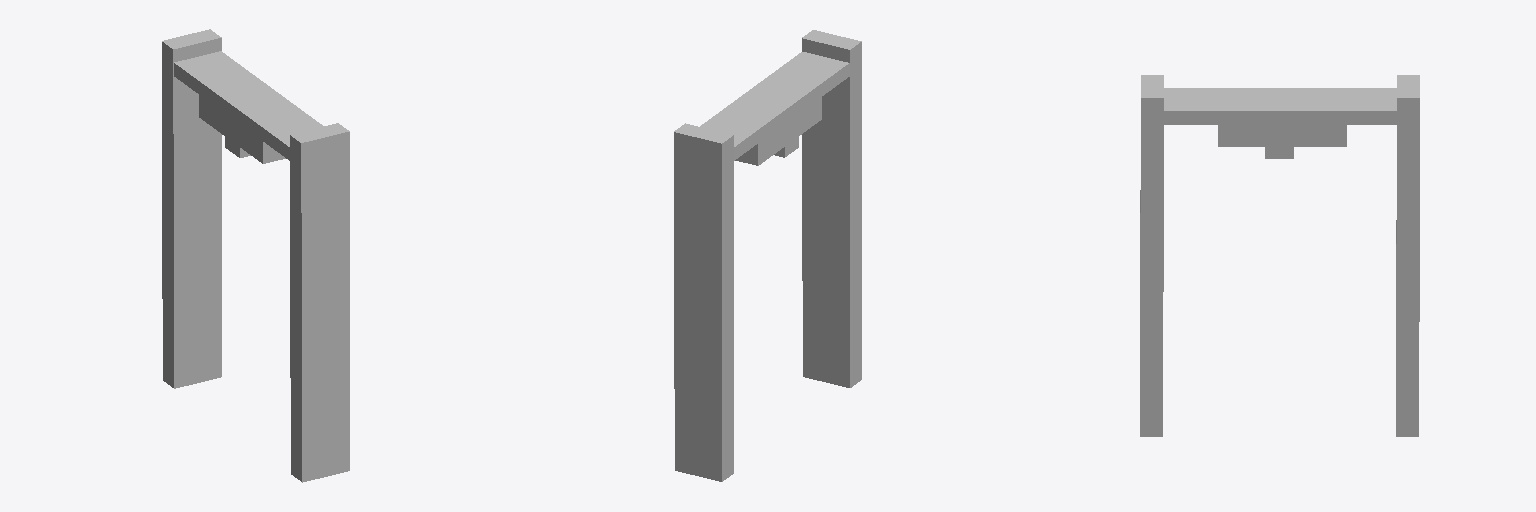
Rendered from storageCrane.obj.
3 views of the same model, side by side, from view 1: azimuth 30°, elevation 25°; view 2: azimuth 150°, elevation 25°; view 3: azimuth 270°, elevation 25° (orthographic).
Parts seen in each view (by area): view 1: Crane_Cube.003; view 2: Crane_Cube.003; view 3: Crane_Cube.003.
Boxes of the visible parts, box(x1,y1,x2,y2) form: Crane_Cube.003: box(162, 29, 349, 482); Crane_Cube.003: box(674, 30, 861, 481); Crane_Cube.003: box(1140, 75, 1419, 436).
Size of the model in its own units: 3 by 20 by 15.